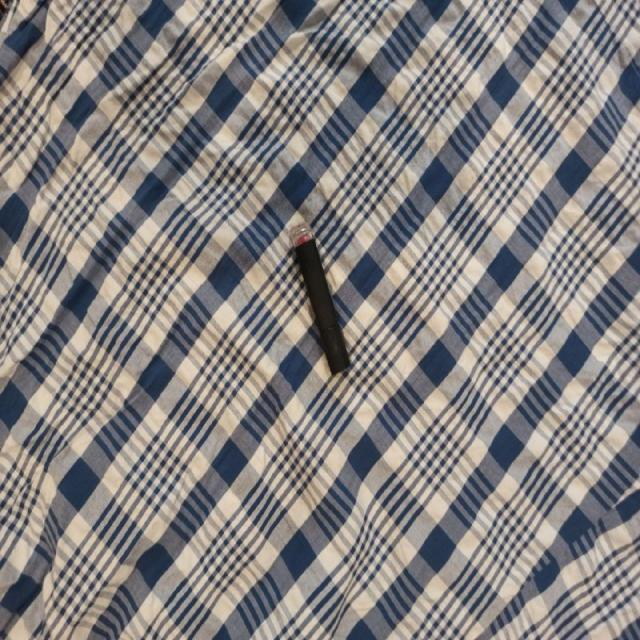lipstick: (288, 219, 350, 375)
